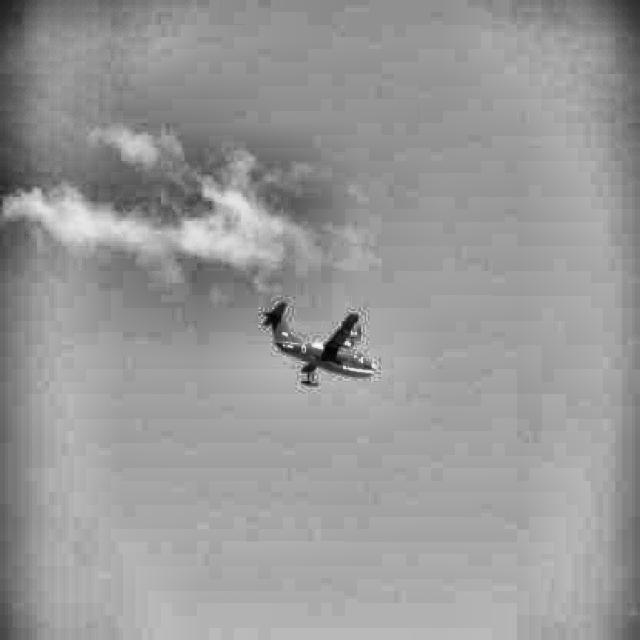US2: (262, 301, 376, 387)
